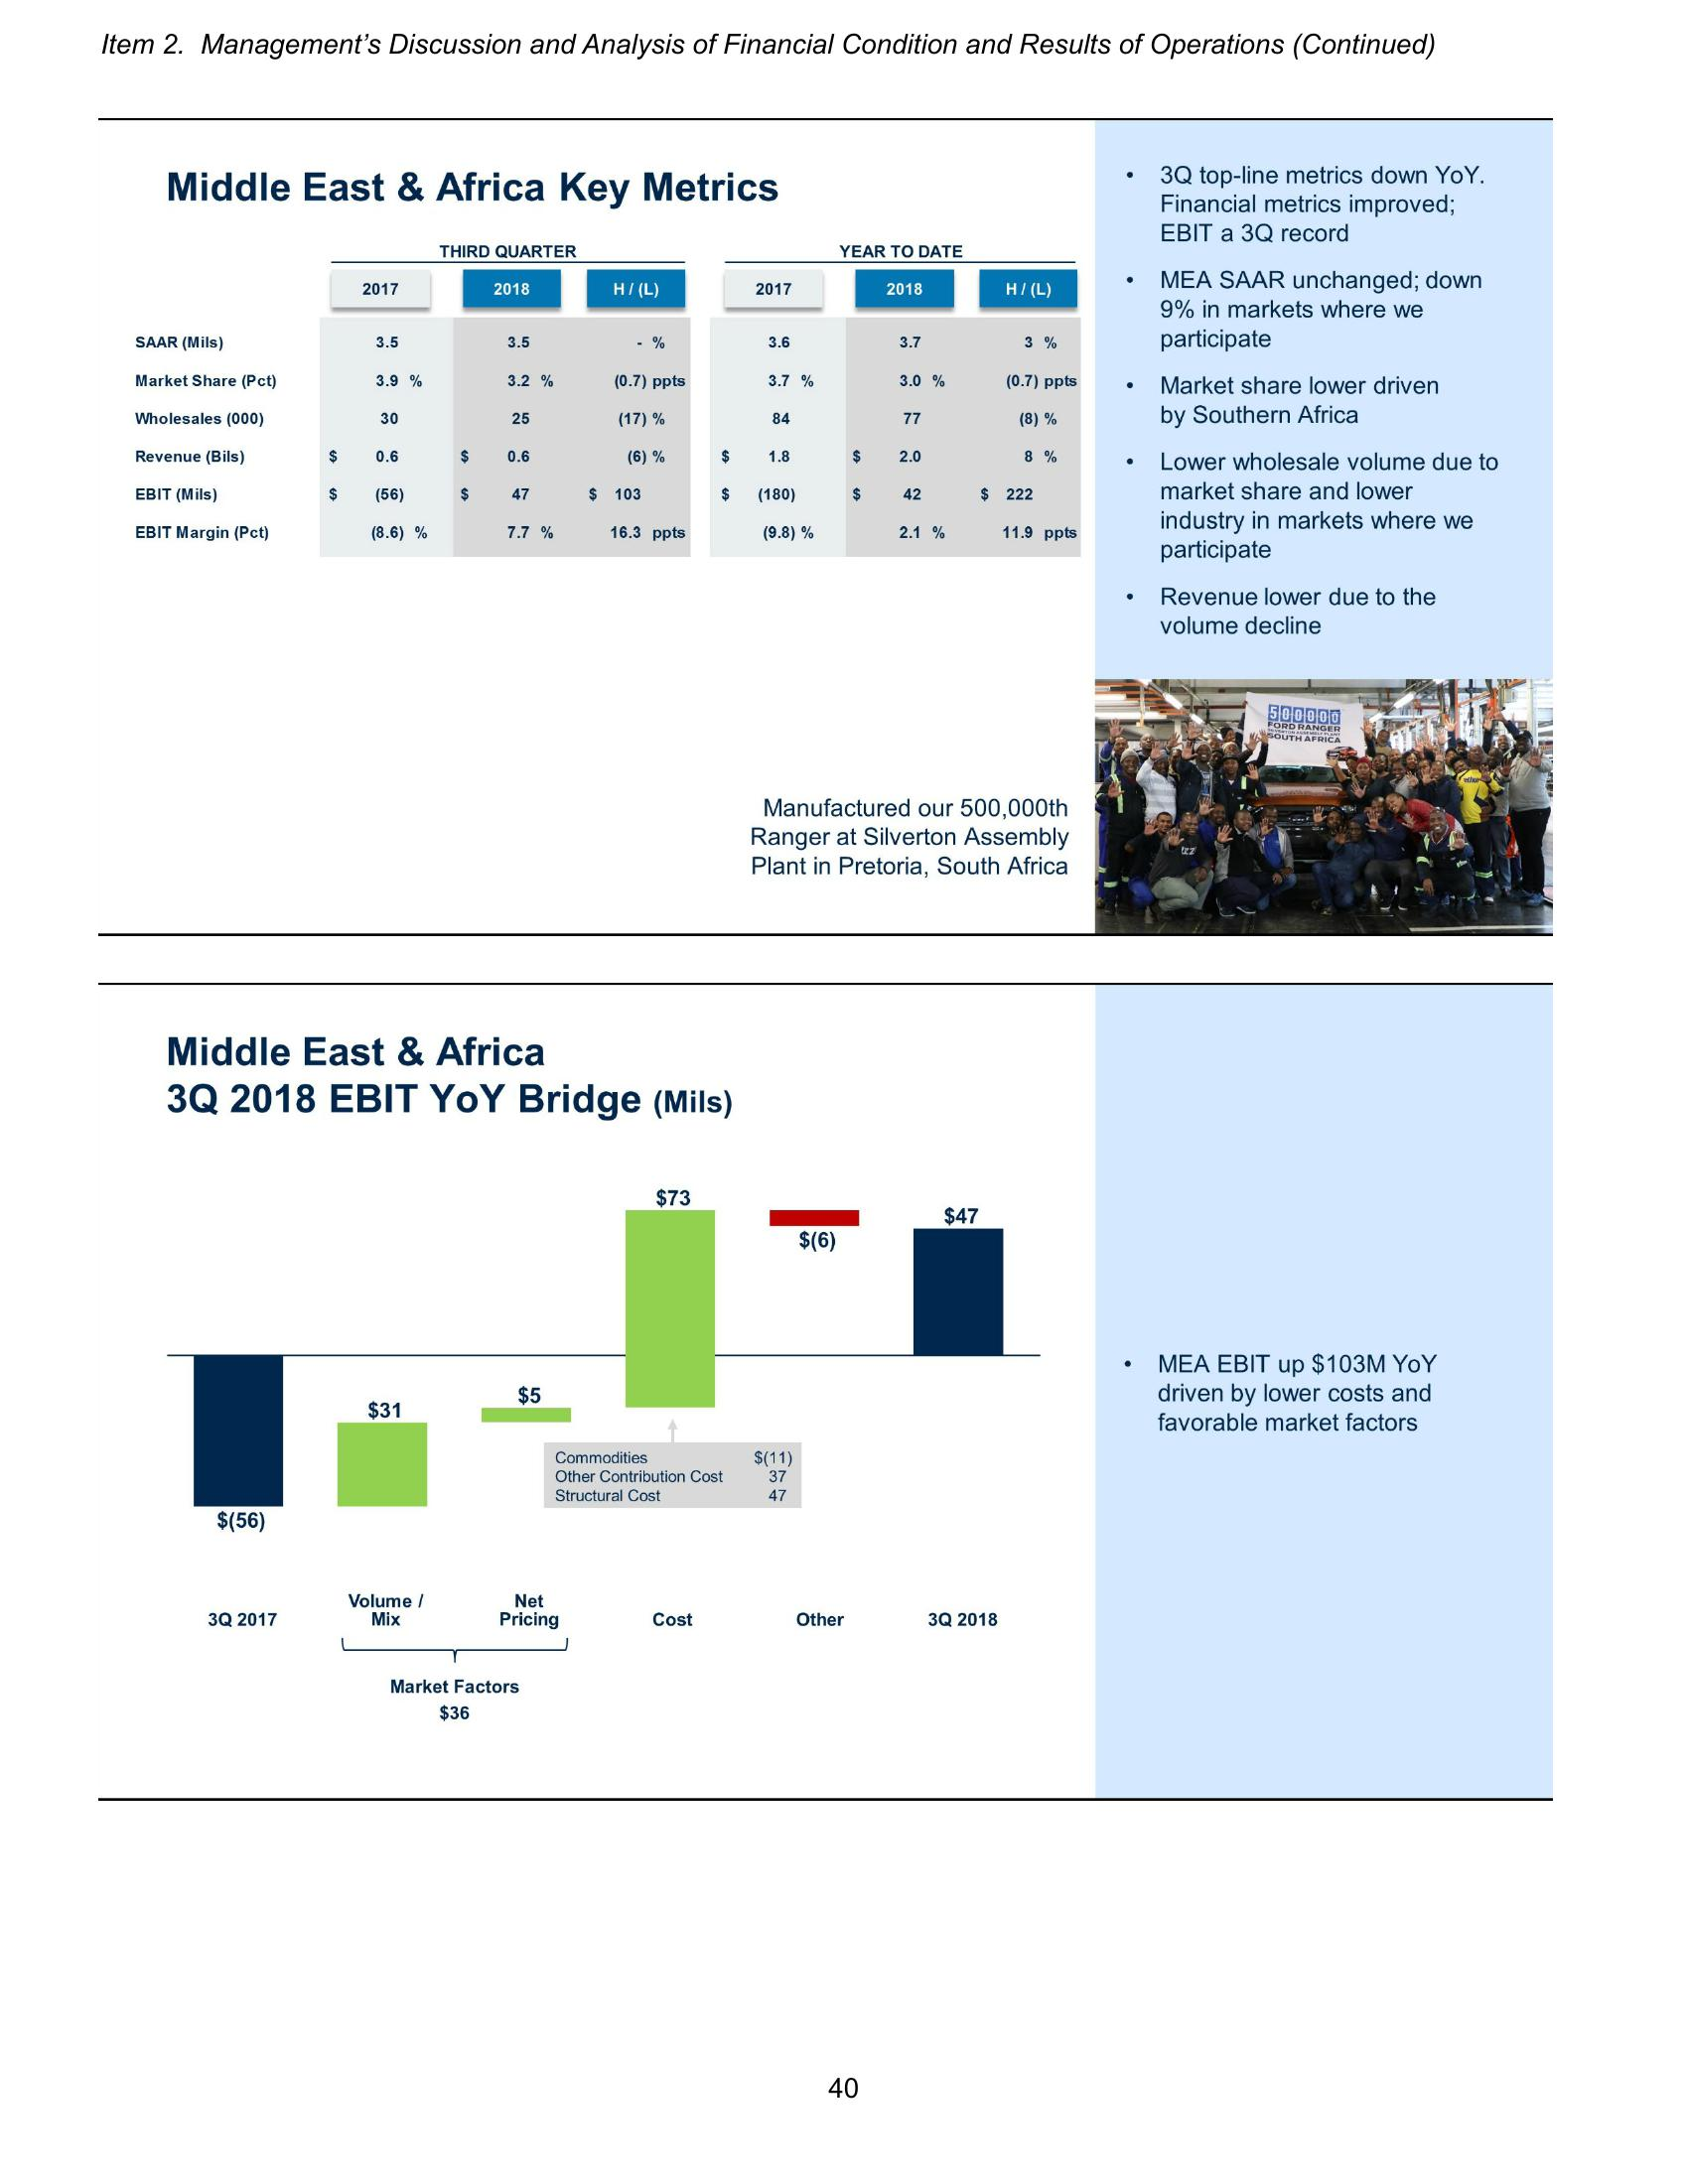table: (122, 238, 1085, 560)
